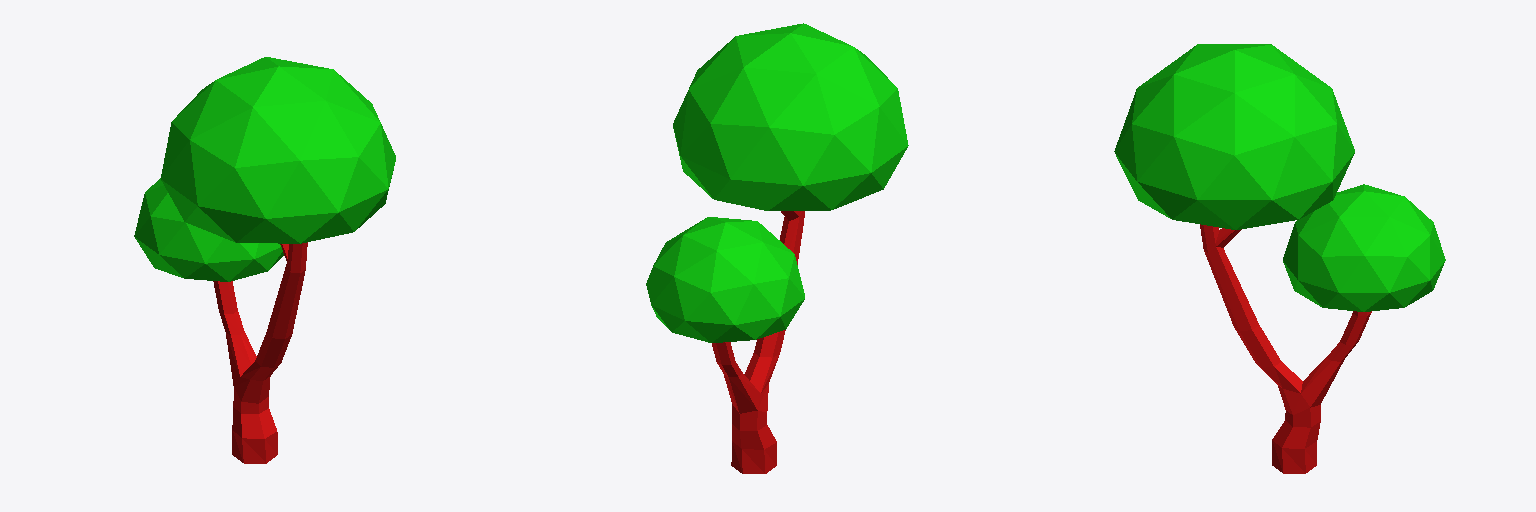
File: Tree1.obj
3 views of the same model, side by side, from view 1: azimuth 30°, elevation 25°; view 2: azimuth 150°, elevation 25°; view 3: azimuth 270°, elevation 25° (orthographic).
Visible parts, largest first — view 1: Icosphere.002; view 2: Icosphere.002; view 3: Icosphere.002.
Part boxes in pixels (left/top/right/bottom): Icosphere.002: left=134, top=57, right=395, bottom=463; Icosphere.002: left=646, top=23, right=908, bottom=473; Icosphere.002: left=1114, top=44, right=1445, bottom=473.
Bounding box in the file's own units: 1.59 × 3.15 × 2.3.